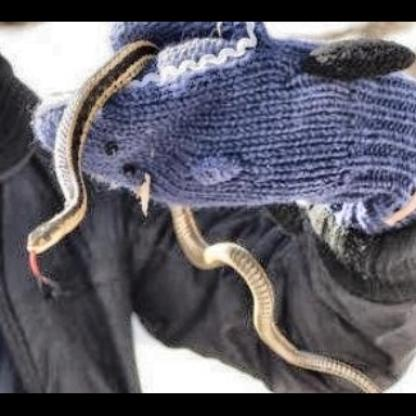Snake: (4, 26, 416, 392)
